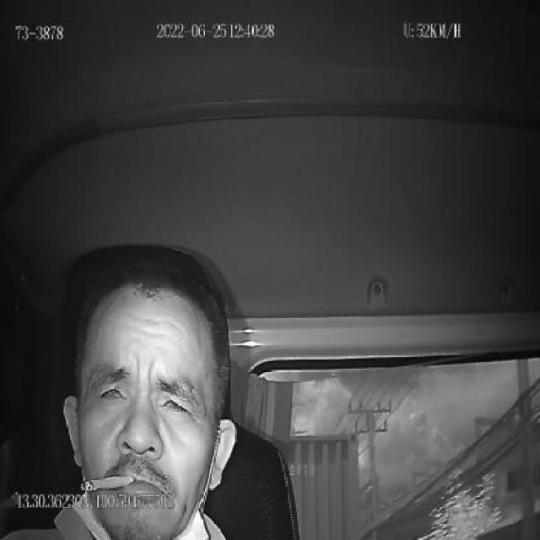smoking: (77, 474, 135, 493)
